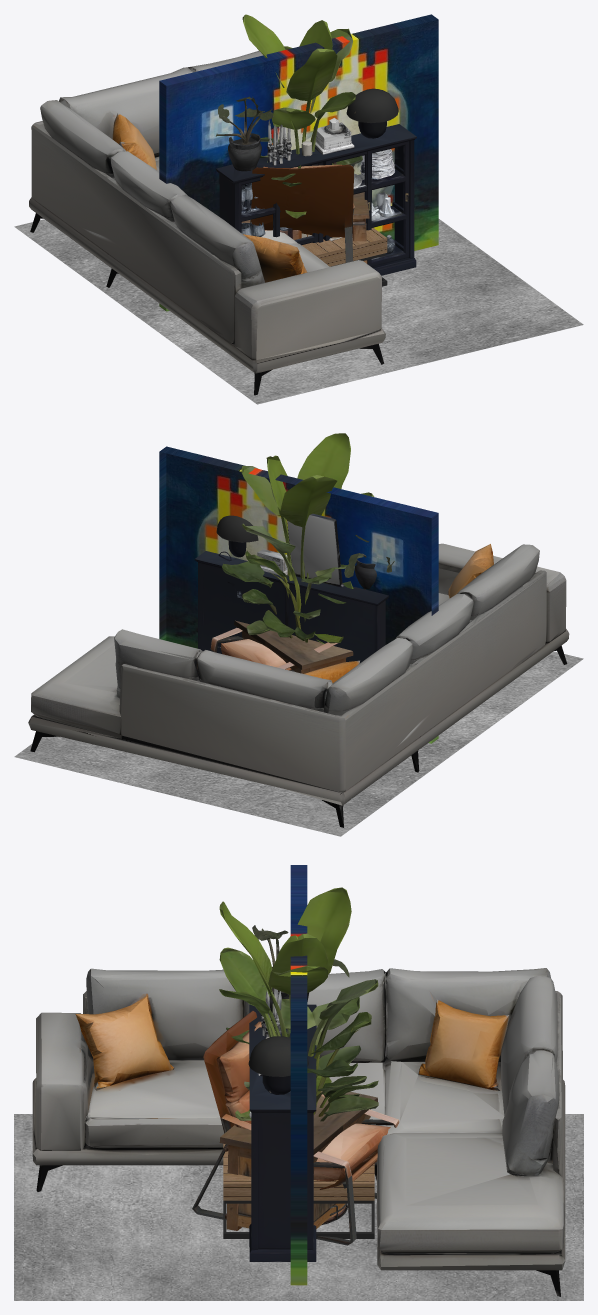
File: loft_furniture.glb
3 views of the same model, one above another, from view 1: azimuth 30°, elevation 25°; view 2: azimuth 150°, elevation 25°; view 3: azimuth 270°, elevation 25° (orthographic). The views are drawn at different scales.
Visible parts, largest first — view 1: sofa, rug, wallart, bar, chair, plant, coffee, console; view 2: sofa, wallart, rug, bar, plant, console, chair; view 3: sofa, rug, plant, bar, chair, wallart, console, coffee.
Part boxes in pixels (<box>): sofa: <box>29,50,385,395</box>; rug: <box>14,219,583,404</box>; wallart: <box>159,14,438,311</box>; bar: <box>216,88,416,275</box>; chair: <box>250,164,354,262</box>; plant: <box>242,14,362,237</box>; coffee: <box>302,228,387,286</box>; console: <box>241,192,369,263</box>; sofa: <box>28,543,569,827</box>; wallart: <box>159,446,438,743</box>; rug: <box>14,651,583,836</box>; bar: <box>194,513,394,663</box>; plant: <box>221,433,374,643</box>; console: <box>234,620,353,673</box>; chair: <box>210,627,337,671</box>; sofa: <box>32,968,565,1296</box>; rug: <box>14,1114,583,1300</box>; plant: <box>219,887,378,1121</box>; bar: <box>248,925,349,1261</box>; chair: <box>192,1011,399,1245</box>; wallart: <box>290,865,307,1285</box>; console: <box>219,1091,377,1230</box>; coffee: <box>223,1144,374,1238</box>.
Bounding box in the file's own units: 4.62 × 3.45 × 5.96.
Materials: 10 (9 with a texture image).
